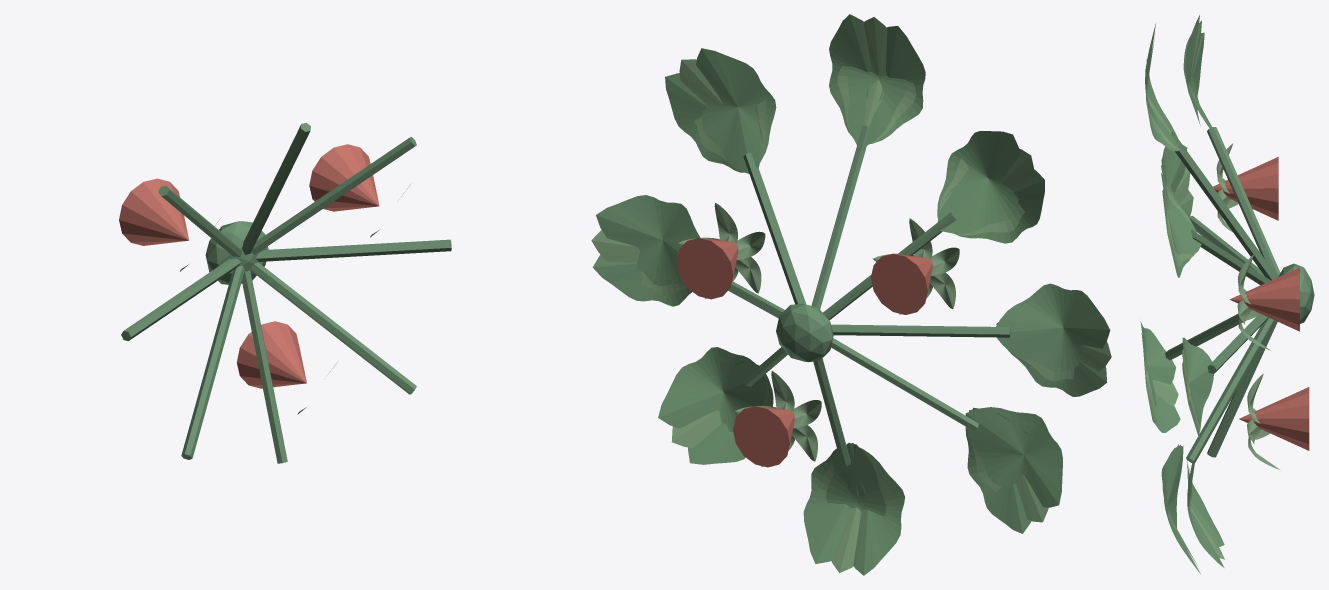
The model's file is strawberry_a.glb.
3 renders of one model, left to right at view 1: azimuth 30°, elevation 25°; view 2: azimuth 150°, elevation 25°; view 3: azimuth 270°, elevation 25°, orthographic. The views are drawn at different scales.
Visible parts, largest first — view 1: Stem, FruitRed; view 2: Leaves, Stem, FruitRed, Calyx; view 3: Leaves, Stem, FruitRed, Calyx.
Boxes of the visible parts, box(x1,y1,x2,y2) form: Stem: box(121, 122, 451, 463); FruitRed: box(119, 144, 379, 388); Leaves: box(591, 14, 1111, 575); Stem: box(728, 125, 1010, 466); FruitRed: box(676, 238, 932, 467); Calyx: box(678, 203, 959, 467); Leaves: box(1140, 15, 1224, 574); Stem: box(1165, 127, 1314, 463); FruitRed: box(1213, 157, 1309, 450); Calyx: box(1216, 143, 1279, 469).
Size of the model in its own units: 0.499 by 0.4967 by 0.1481.
